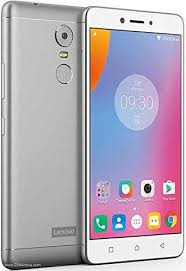lenovo: (82, 3, 186, 266), (1, 1, 81, 268)
